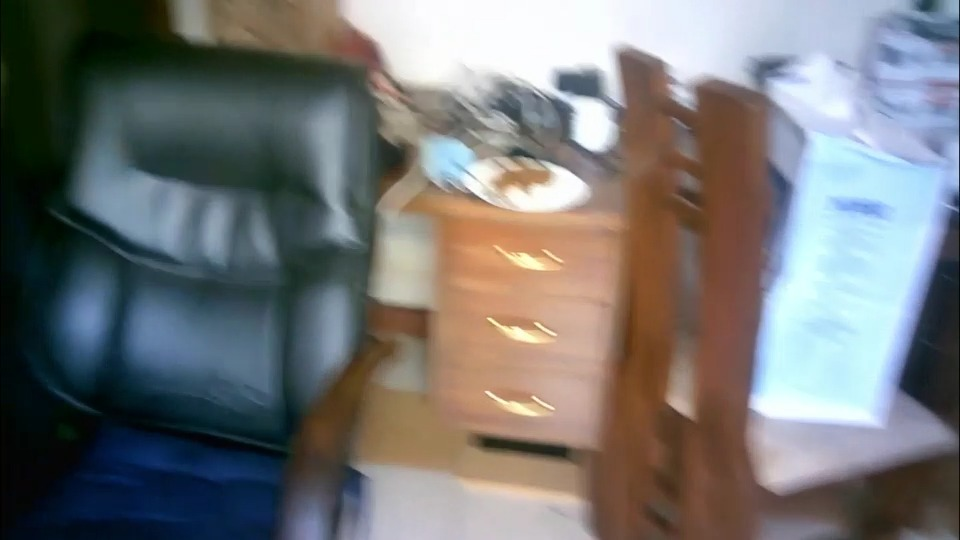wheat_flour_blue_label: (760, 71, 952, 429)
